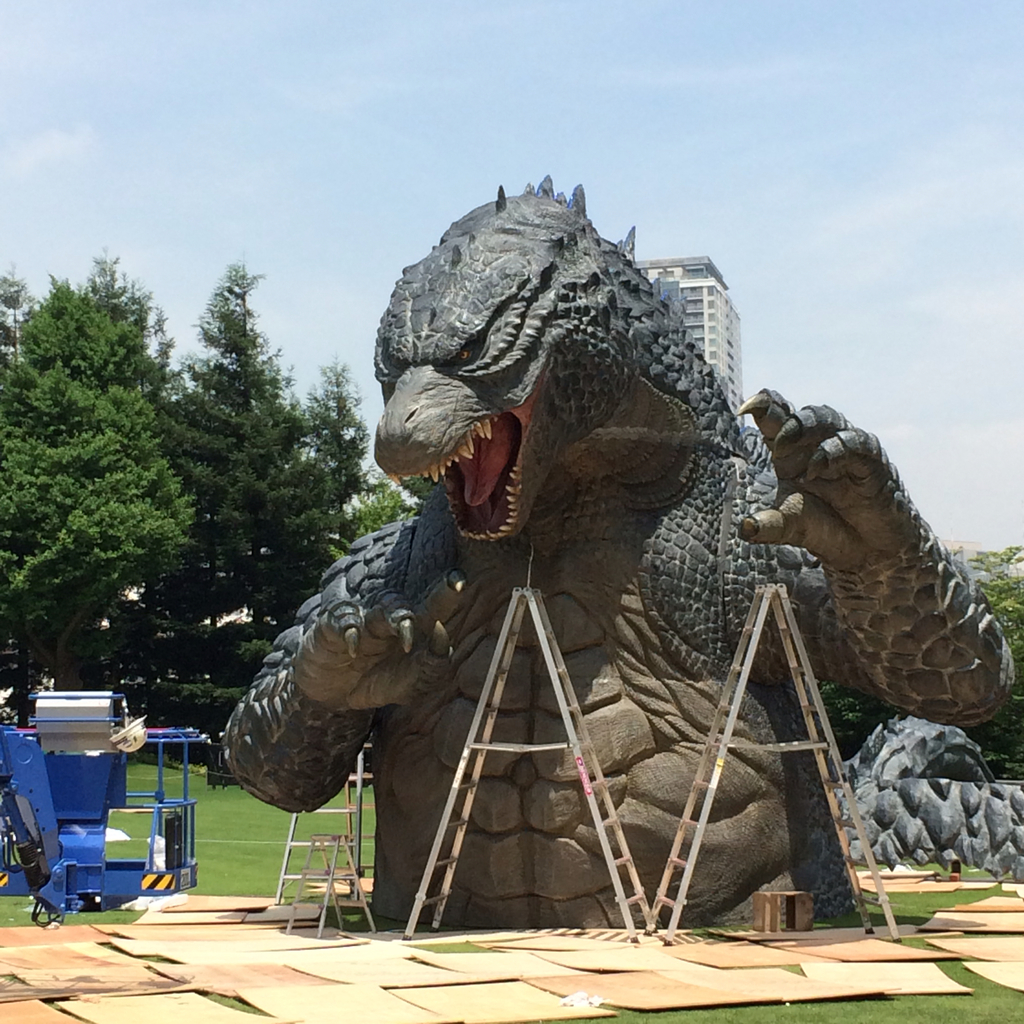Animal: (218, 171, 1016, 930)
